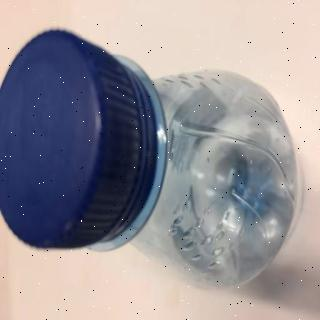Plastic-bottle: (1, 25, 306, 296)
